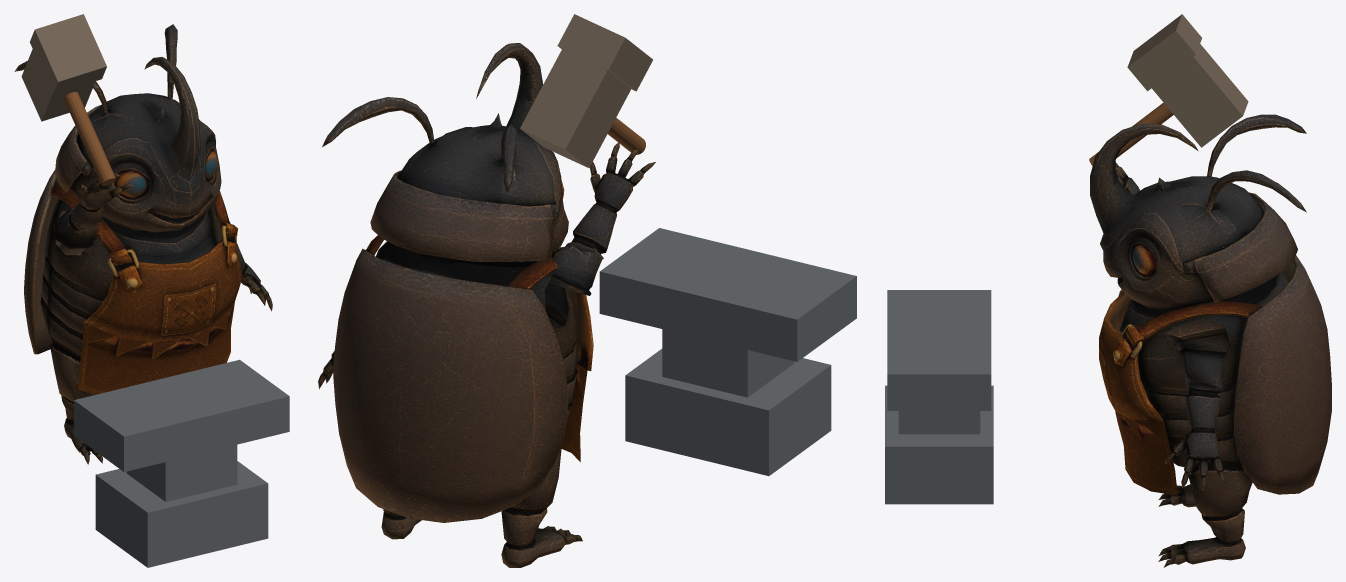
The model's file is hero.glb.
3 views of the same model, side by side, from view 1: azimuth 30°, elevation 25°; view 2: azimuth 150°, elevation 25°; view 3: azimuth 270°, elevation 25° (orthographic). The views are drawn at different scales.
Visible parts, largest first — view 1: tripo_part_8, Bram_Anvil_Top, tripo_part_1, Bram_Anvil_Base, tripo_part_0, Bram_Hammer_Face, Bram_Anvil_Stem, tripo_part_6, Bram_LeftArm_Hammer, Bram_Hammer_Head, tripo_part_5, Bram_Hammer_Handle (+6 smaller); view 2: tripo_part_6, Bram_Anvil_Top, Bram_Anvil_Base, tripo_part_1, tripo_part_7, Bram_Hammer_Head, Bram_LeftArm_Hammer, Bram_Anvil_Stem, tripo_part_0, tripo_part_5, Bram_Hammer_Face, tripo_part_8 (+3 smaller); view 3: tripo_part_1, tripo_part_6, Bram_Anvil_Top, tripo_part_0, Bram_Anvil_Base, tripo_part_8, tripo_part_7, Bram_Hammer_Head, Bram_RightArm, tripo_part_3, Bram_Hammer_Face, Bram_Anvil_Stem (+3 smaller).
Part boxes in pixels (x1,y1,x2,y2): tripo_part_8: (77, 236, 242, 394); Bram_Anvil_Top: (74, 359, 289, 471); tripo_part_1: (14, 24, 221, 236); Bram_Anvil_Base: (95, 461, 268, 567); tripo_part_0: (40, 183, 222, 360); Bram_Hammer_Face: (30, 14, 106, 94); Bram_Anvil_Stem: (126, 444, 237, 501); tripo_part_6: (24, 170, 58, 354); Bram_LeftArm_Hammer: (53, 173, 133, 248); Bram_Hammer_Head: (21, 49, 95, 121); tripo_part_5: (50, 343, 102, 464); Bram_Hammer_Handle: (63, 92, 116, 185); tripo_part_6: (333, 248, 568, 522); Bram_Anvil_Top: (599, 228, 856, 361); Bram_Anvil_Base: (625, 348, 831, 475); tripo_part_1: (322, 43, 568, 267); tripo_part_7: (370, 170, 559, 261); Bram_Hammer_Head: (520, 49, 631, 167); Bram_LeftArm_Hammer: (548, 142, 655, 295); Bram_Anvil_Stem: (662, 329, 794, 397); tripo_part_0: (376, 241, 577, 417); tripo_part_5: (501, 446, 582, 567); Bram_Hammer_Face: (557, 14, 652, 91); tripo_part_8: (561, 289, 593, 462); tripo_part_1: (1090, 114, 1306, 310); tripo_part_6: (1234, 255, 1331, 494); Bram_Anvil_Top: (887, 290, 991, 410); tripo_part_0: (1119, 272, 1287, 472); Bram_Anvil_Base: (885, 385, 993, 504); tripo_part_8: (1099, 292, 1177, 495); tripo_part_7: (1183, 192, 1297, 302); Bram_Hammer_Head: (1152, 44, 1248, 147); Bram_RightArm: (1164, 333, 1226, 490); tripo_part_3: (1158, 469, 1252, 567); Bram_Hammer_Face: (1127, 14, 1201, 91); Bram_Anvil_Stem: (898, 411, 980, 434).
Bounding box in the file's own units: 0.7808 × 1.13 × 0.9871.
Materials: 20 (17 with a texture image).
